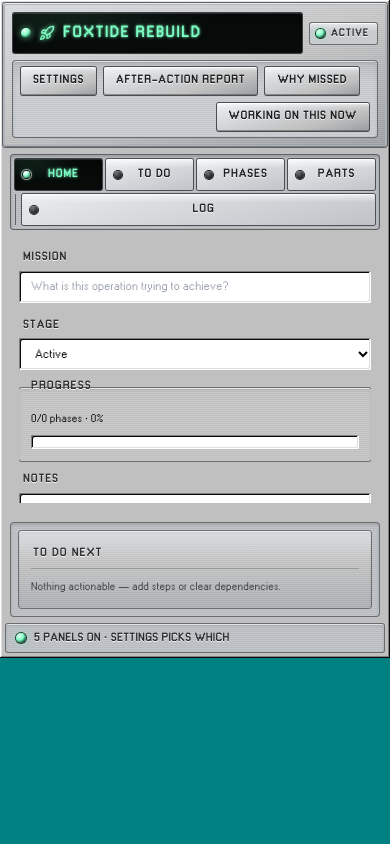
Test case: OperationWorkspace › toggles Working on this now into Stop working on {name}
What coordinates should you click on to do the following:
click the button "Working on this now"
I would click on:
 (293, 117)
Its box is [216, 103, 369, 131].
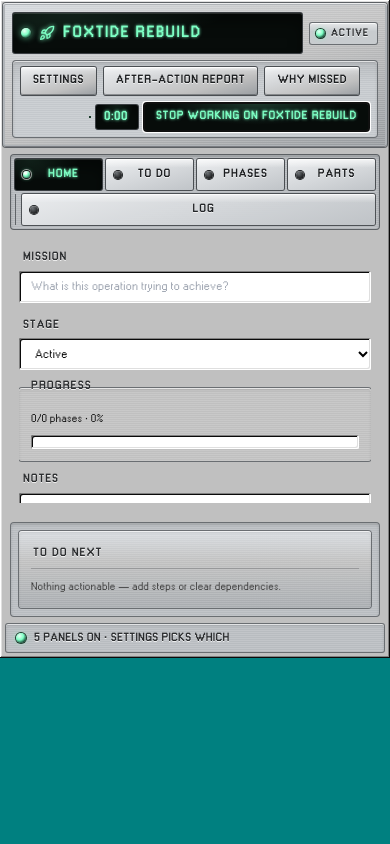
Check: the button "Stop working on Foxtide rebuild" is shown
What coordinates should you click on to do the following:
click the button "Stop working on Foxtide rebuild"
I would click on:
 (256, 117)
Its box is [144, 103, 369, 131].
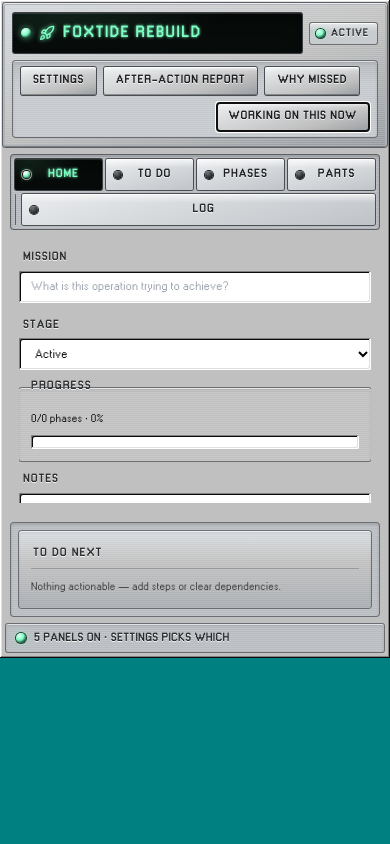
Check: the button "Working on this now" is shown, box [216, 103, 369, 131]
